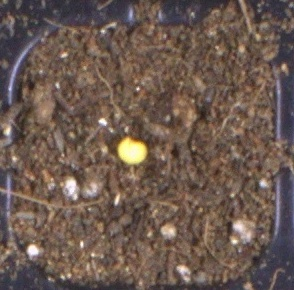chilli seed: (116, 136, 148, 165)
